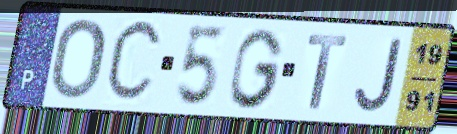5: (173, 22, 231, 109)
C: (102, 15, 166, 109)
G: (227, 25, 287, 111)
J: (351, 36, 406, 116)
O: (48, 16, 109, 102)
T: (305, 33, 350, 113)
